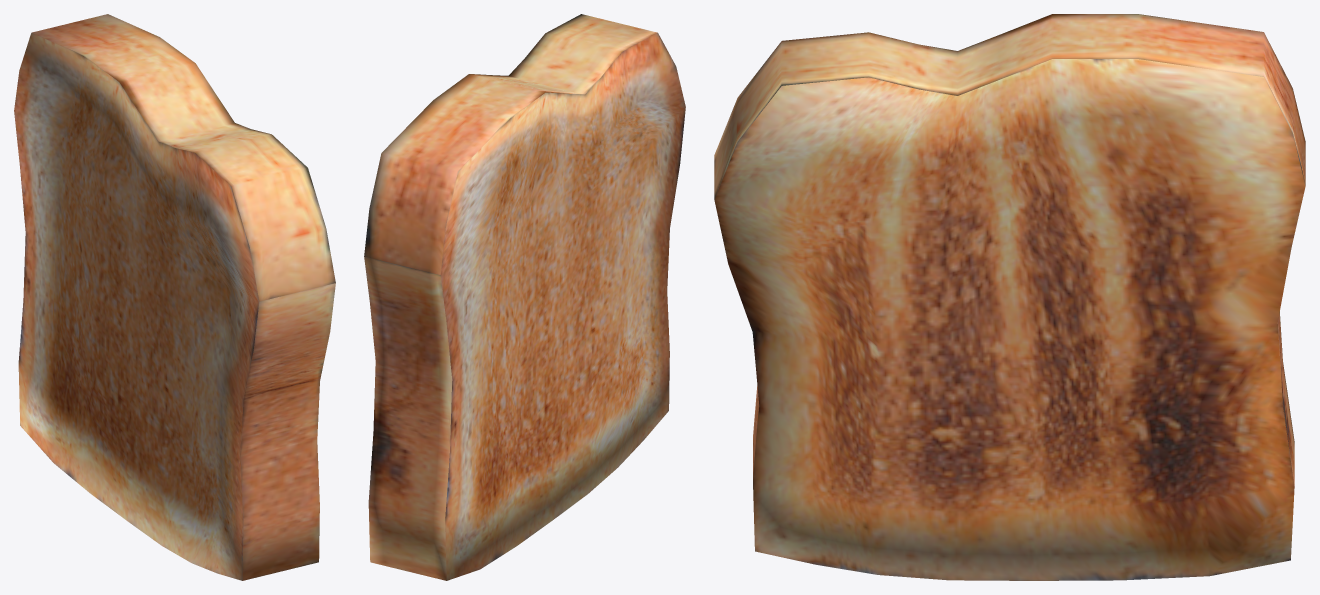
File: Toastv6.glb
3 renders of one model, left to right at view 1: azimuth 30°, elevation 25°; view 2: azimuth 150°, elevation 25°; view 3: azimuth 270°, elevation 25°, orthographic. The views are drawn at different scales.
Parts seen in each view (by area): view 1: Toast.003; view 2: Toast.003; view 3: Toast.003.
Boxes of the visible parts, x1,y1,x2,y2 form: Toast.003: (14, 14, 335, 580); Toast.003: (364, 14, 685, 580); Toast.003: (714, 14, 1305, 580).
Bounding box in the file's own units: 40 × 216 × 222.
Materials: 1 (1 with a texture image).
